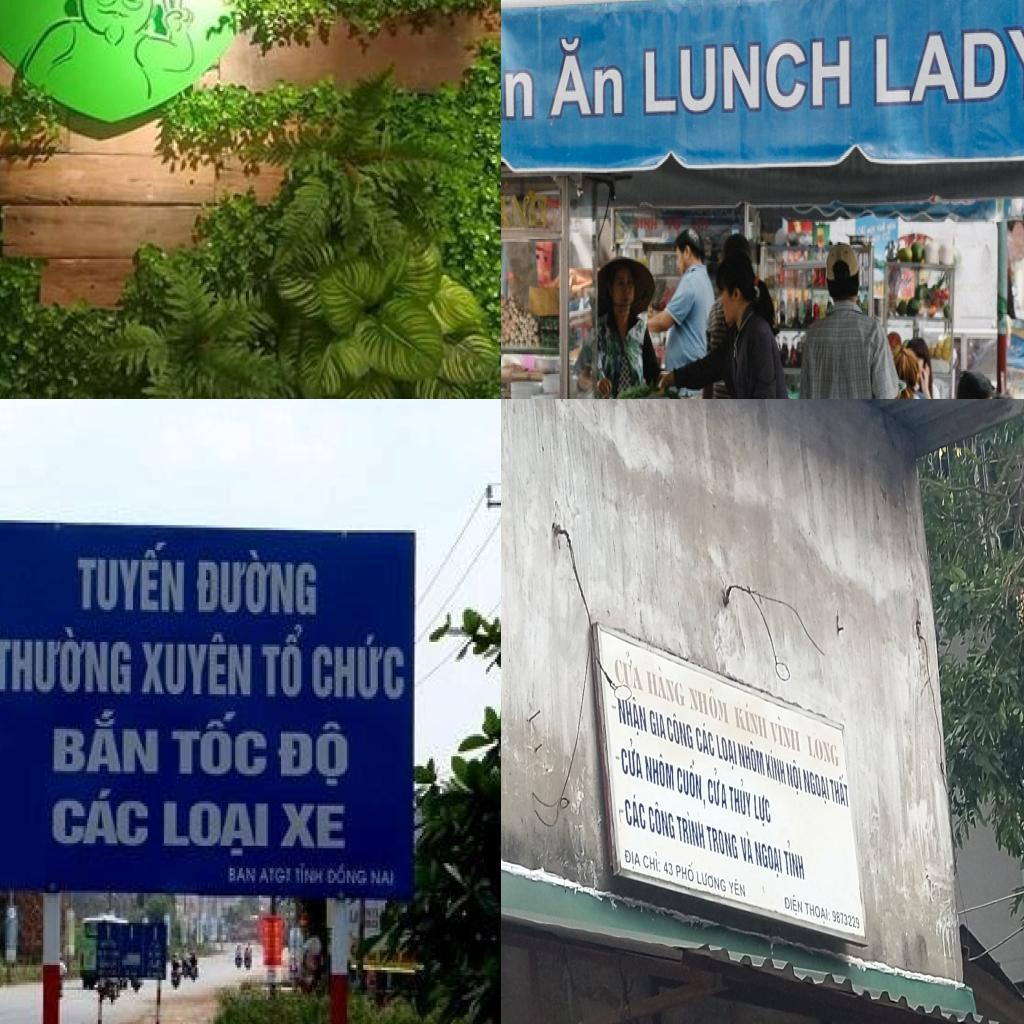text: (643, 36, 853, 118), (874, 23, 1024, 108), (191, 542, 323, 624), (0, 627, 136, 701), (72, 540, 192, 617), (138, 630, 258, 702), (50, 706, 166, 778), (158, 796, 276, 861), (168, 709, 272, 781), (310, 632, 409, 704), (49, 789, 153, 853), (274, 712, 354, 794), (550, 36, 624, 119), (277, 796, 349, 853), (258, 622, 308, 702), (501, 53, 536, 130), (501, 182, 548, 229), (687, 681, 732, 728), (644, 662, 686, 708), (732, 698, 770, 743), (675, 754, 704, 810), (612, 646, 645, 694), (615, 693, 648, 740), (768, 712, 803, 756), (642, 748, 675, 793), (704, 822, 740, 863), (752, 837, 784, 881), (804, 732, 841, 770), (646, 799, 677, 842), (665, 709, 695, 753), (736, 735, 766, 779), (676, 808, 706, 852), (618, 736, 645, 782), (780, 838, 807, 884), (727, 775, 753, 822), (802, 766, 832, 806), (325, 863, 370, 888), (622, 792, 647, 833), (706, 766, 728, 812), (764, 746, 788, 788), (714, 732, 738, 773), (693, 719, 716, 759), (828, 770, 850, 810), (695, 868, 727, 895), (752, 790, 772, 832), (804, 899, 832, 927), (785, 756, 804, 797), (294, 863, 325, 888), (259, 866, 294, 888), (226, 866, 259, 888), (648, 707, 668, 743), (369, 866, 398, 890), (738, 829, 756, 867), (831, 908, 861, 930), (782, 890, 804, 918), (622, 846, 644, 872), (641, 849, 662, 875), (674, 857, 694, 884), (727, 876, 747, 901), (634, 219, 658, 231), (662, 858, 674, 879), (667, 218, 684, 232)
